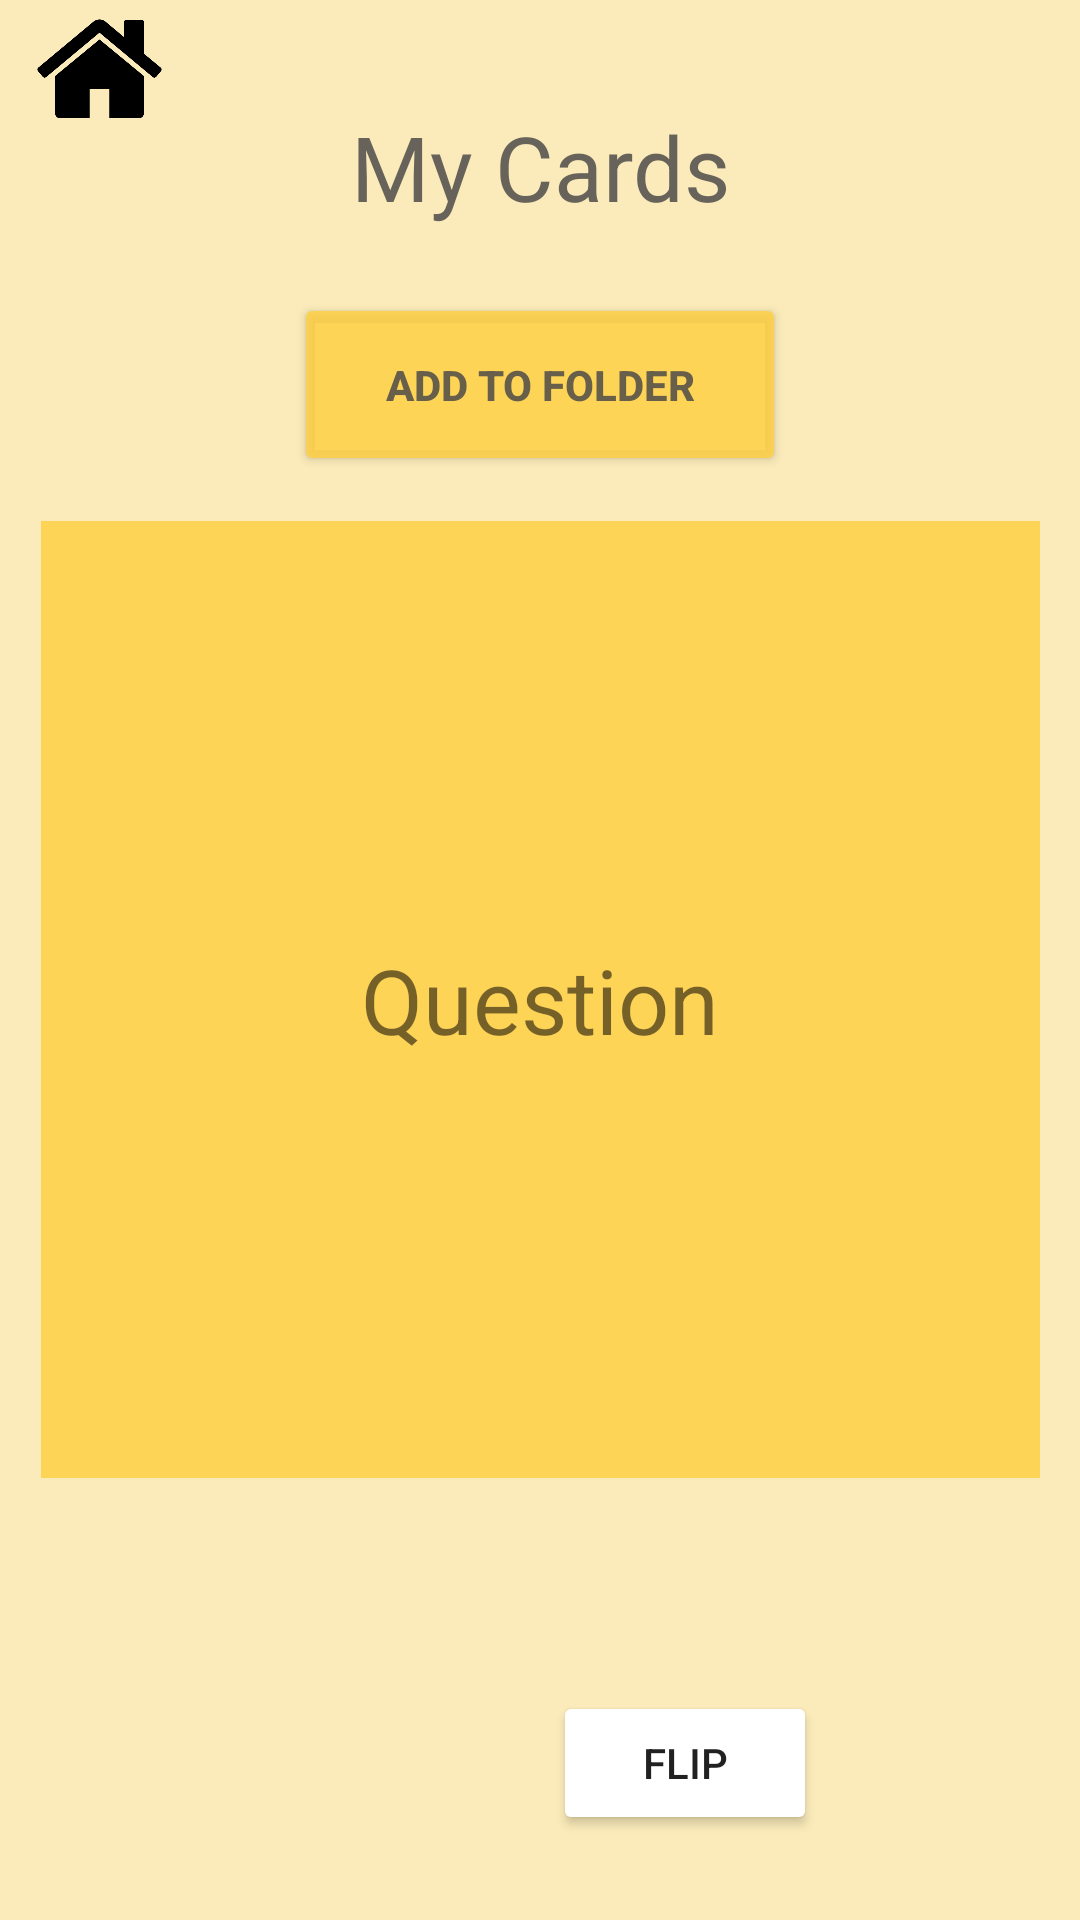

Screen size 1080*1920. Icon name, then its center in pixels as point (x, y):
Home Button: point (99, 68)
